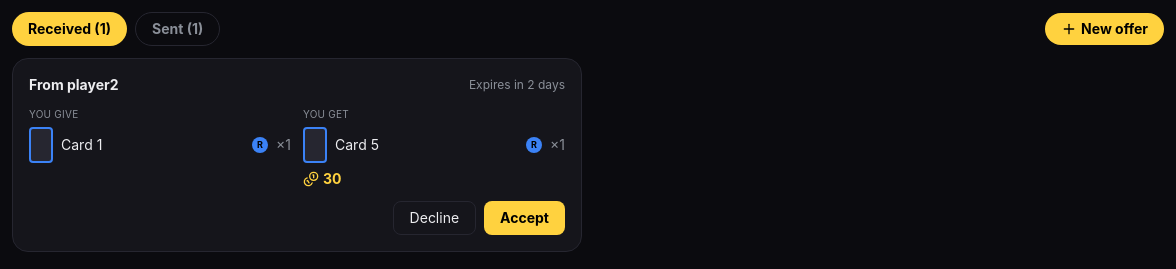
Test case: TradesTab › lists received and sent offers from my point of view
expect the list item shows "From player2": met, box [29, 76, 118, 93]
expect the element "You get" shows "Card 5": met, box [335, 136, 379, 153]
Click the button "Sent (1)" at (178, 29), box [135, 12, 220, 46]
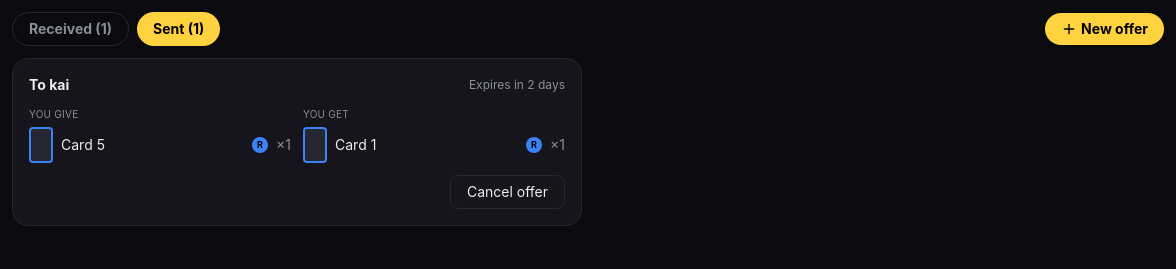
expect the list item shows "To kai": met, box [29, 76, 69, 93]
expect the element "You give" shows "Card 5": met, box [61, 136, 105, 153]
expect the button "Cancel offer" is shown: met, box [450, 175, 565, 209]
